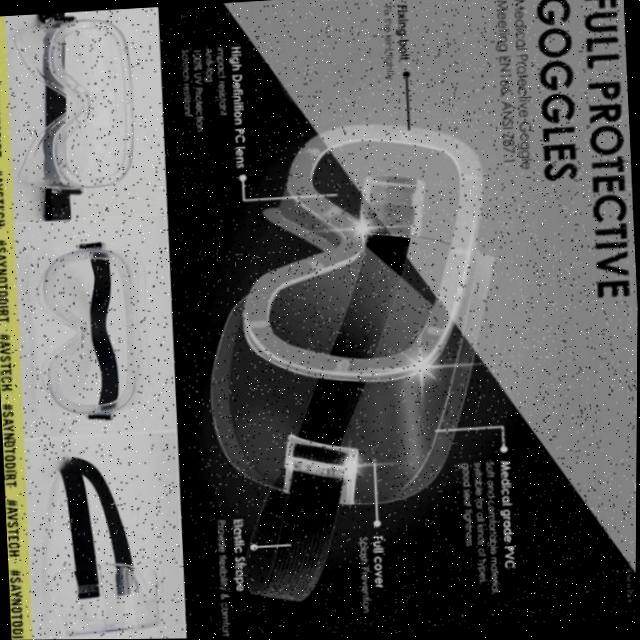goggles_on: (200, 102, 516, 608), (8, 8, 165, 224), (19, 229, 168, 431), (30, 443, 182, 640)
